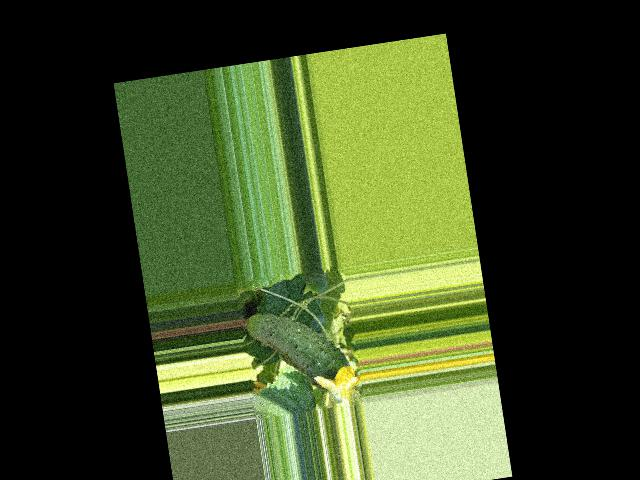cucumber: (238, 300, 352, 402)
